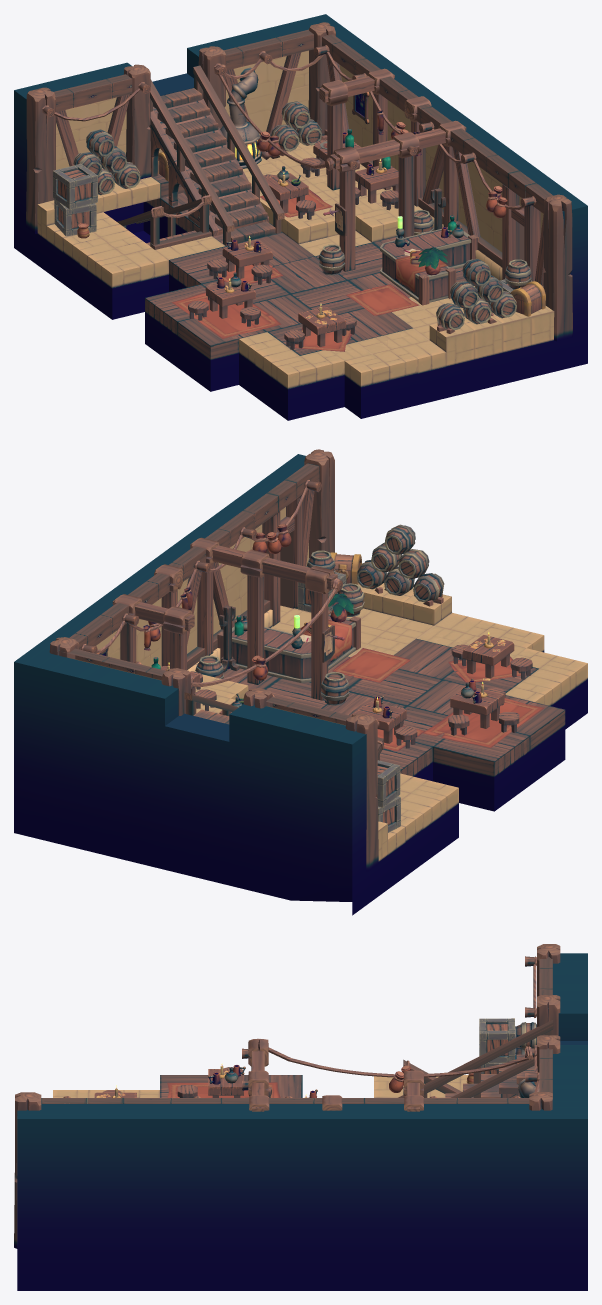
The model's file is Map.fbx.
The picture shows the model from 3 angles, top to bottom: view 1: azimuth 30°, elevation 25°; view 2: azimuth 150°, elevation 25°; view 3: azimuth 270°, elevation 25°; orthographic projection. The views are drawn at different scales.
Visible parts, largest first — view 1: TheInn; view 2: TheInn; view 3: TheInn.
Part boxes in pixels (x1,y1,x2,y2): TheInn: (14,14,587,420); TheInn: (14,449,587,915); TheInn: (14,944,587,1290).
Size of the model in its own units: 3.93 by 2 by 5.72.
